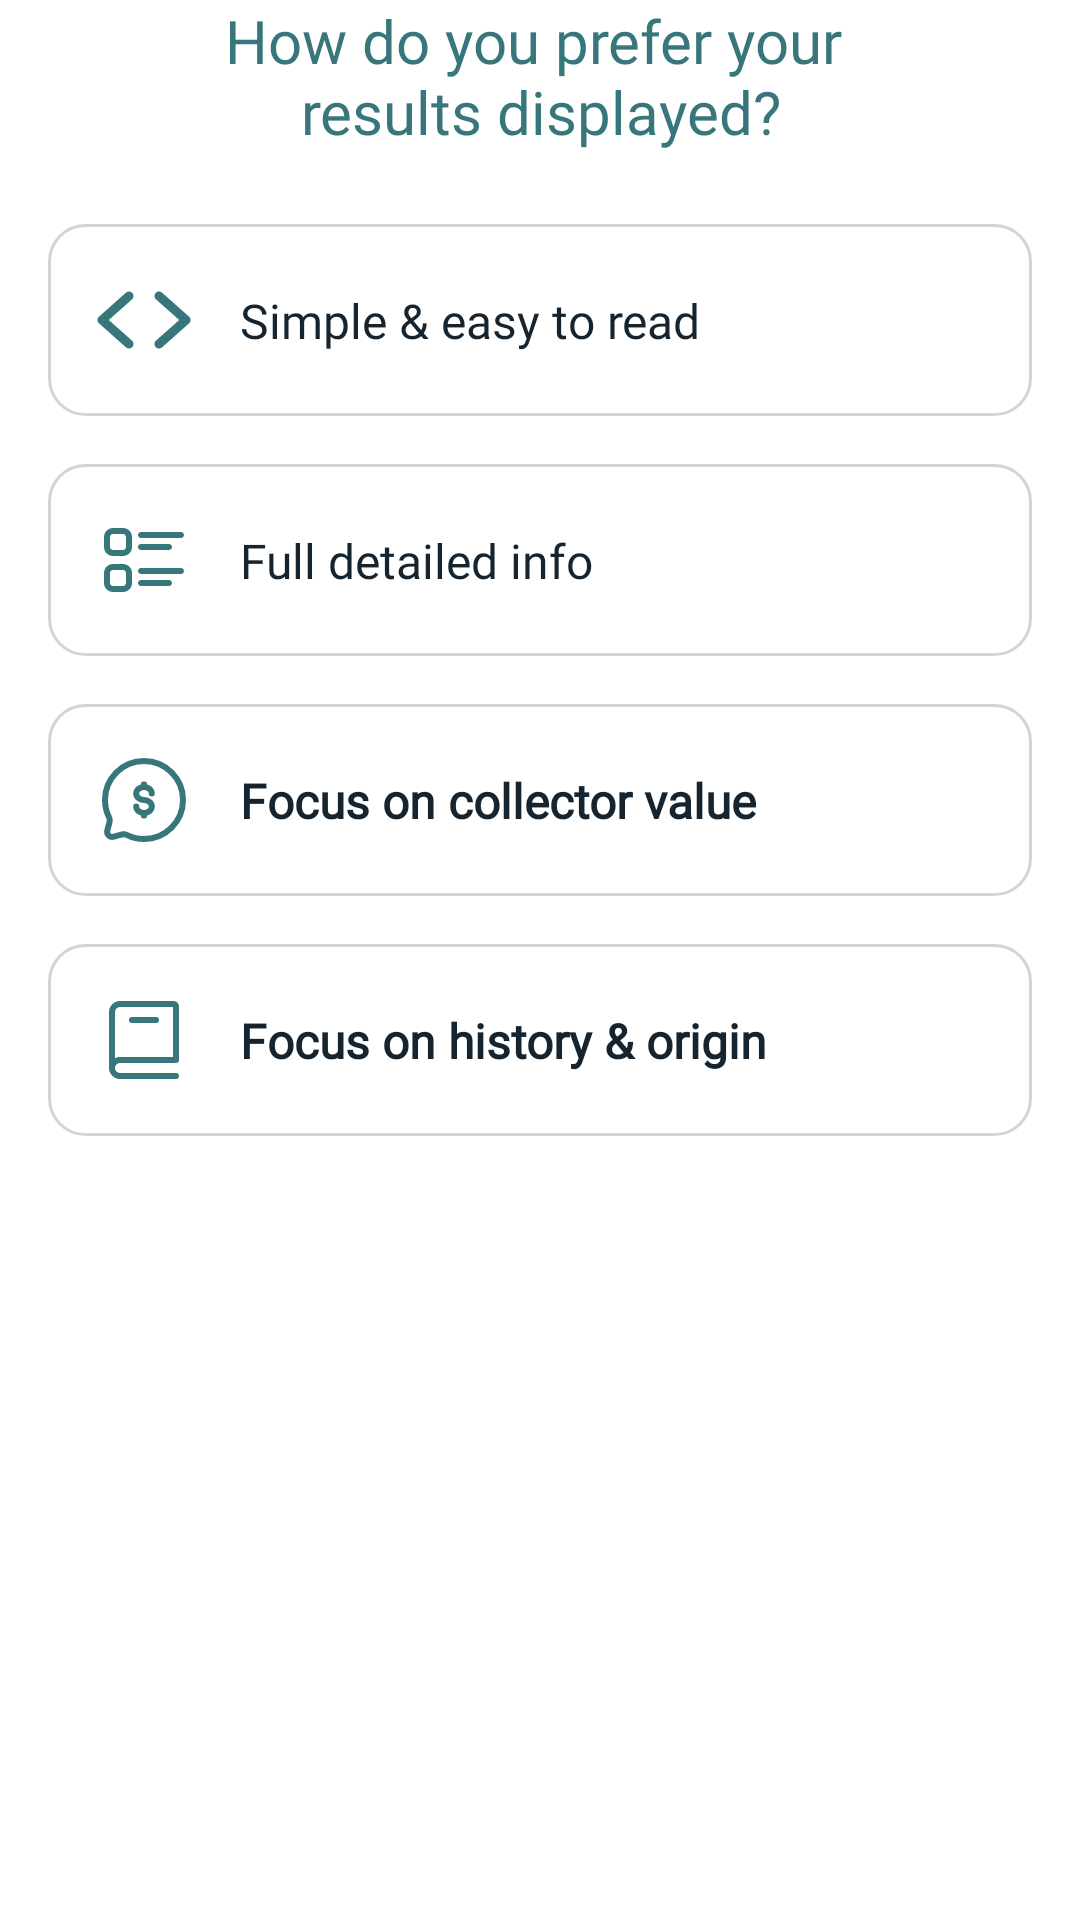

Point at icon controls on the screen. Image size 1080×1920, points as (x,y).
book: (144,1040)
chat: (144,800)
code: (144,320)
